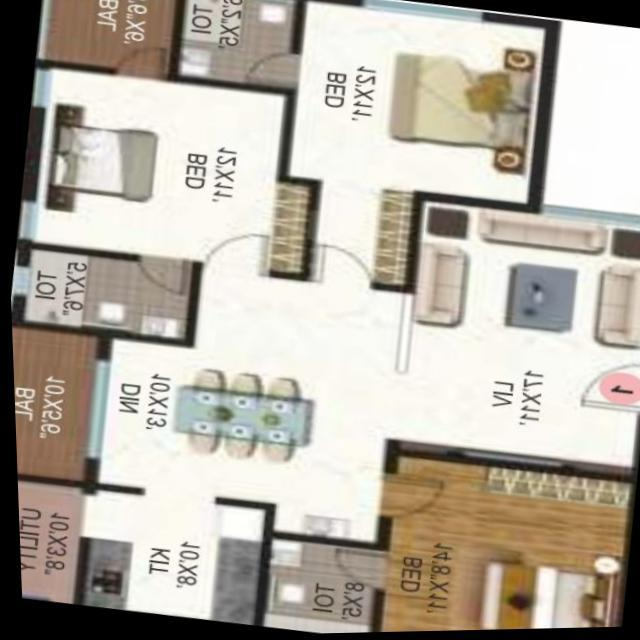Balcony-Sitout: (10, 328, 89, 476), (46, 0, 174, 76)
Bedroom with Toilet: (172, 0, 552, 290), (14, 63, 313, 345), (254, 453, 632, 635)
Dining: (162, 362, 316, 467)
Enterance-Foyer: (573, 354, 640, 419)
Kitchen: (72, 487, 258, 626)
Living: (398, 198, 640, 469)
Toilet: (23, 245, 190, 338), (263, 540, 374, 635), (181, 0, 295, 86)
Utility: (14, 482, 80, 604)
